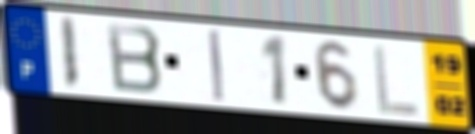1: (255, 33, 289, 107)
6: (312, 39, 363, 113)
B: (104, 20, 167, 96)
I: (57, 15, 81, 93), (206, 27, 226, 104)
L: (371, 42, 423, 118)
